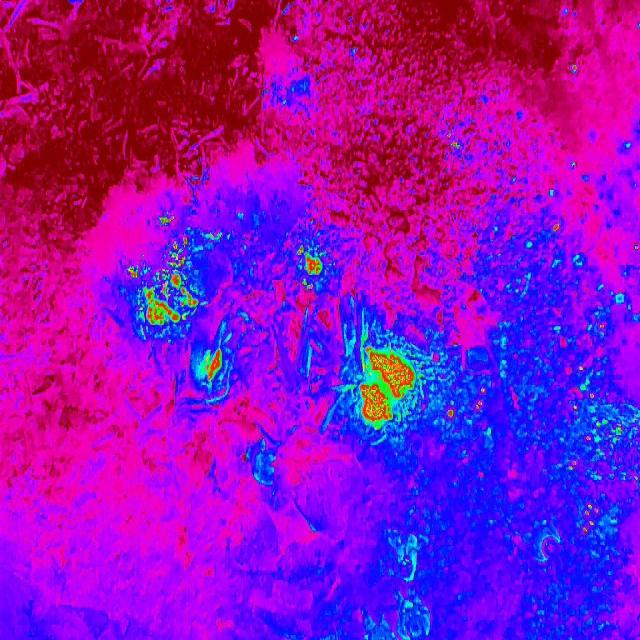fire: (543, 217, 640, 542), (127, 236, 200, 336), (348, 338, 418, 432), (442, 384, 494, 428), (194, 345, 226, 390), (294, 246, 324, 292), (156, 212, 179, 229), (446, 134, 462, 152), (569, 59, 580, 80)
